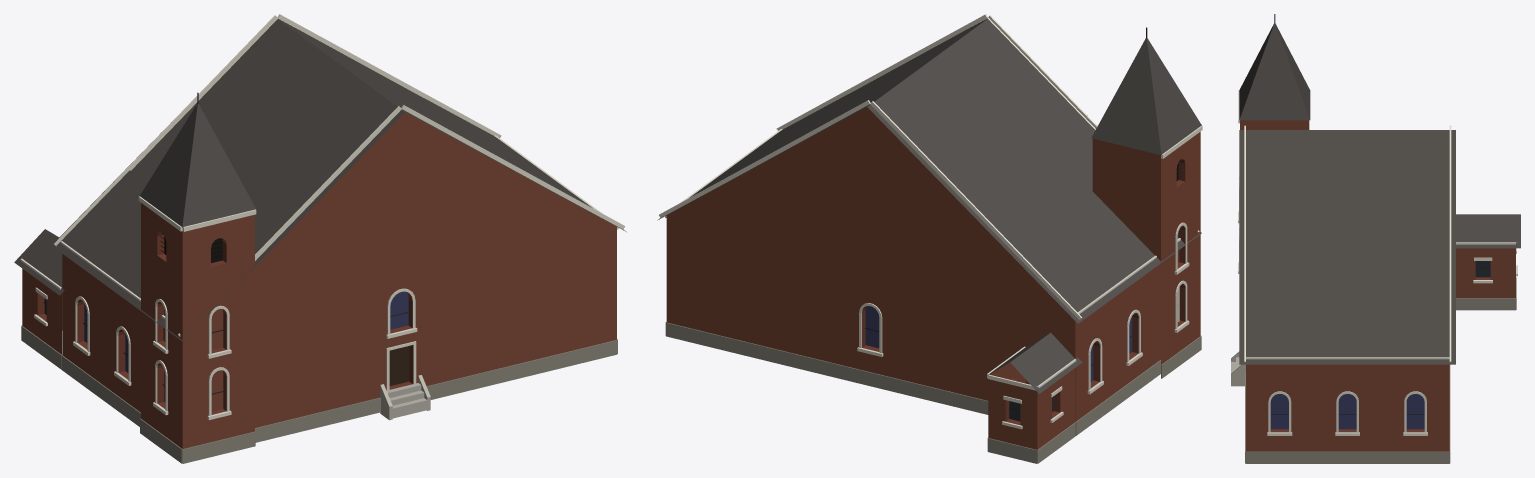
File: ch-luther-memorial-evangelical-1961.glb
3 renders of one model, left to right at view 1: azimuth 30°, elevation 25°; view 2: azimuth 150°, elevation 25°; view 3: azimuth 270°, elevation 25°, orthographic. The views are drawn at different scales.
Visible parts, largest first — view 1: ch_brick, ch_roof, ch_trim, ch_base, ch_roof2, ch_brick2, ch_conc, ch_stain, ch_door; view 2: ch_brick, ch_roof, ch_trim, ch_base, ch_roof2, ch_brick2, ch_stain; view 3: ch_roof, ch_brick, ch_roof2, ch_base, ch_trim, ch_stain, ch_conc.
Part boxes in pixels (x1,y1,x2,y2): ch_brick: [22, 112, 616, 448]; ch_roof: [14, 18, 626, 341]; ch_trim: [20, 14, 625, 420]; ch_base: [21, 325, 617, 463]; ch_roof2: [140, 104, 256, 227]; ch_brick2: [37, 231, 413, 414]; ch_conc: [380, 375, 430, 420]; ch_stain: [84, 291, 408, 402]; ch_door: [389, 346, 409, 385]; ch_brick: [666, 107, 1200, 449]; ch_roof: [657, 18, 1201, 393]; ch_trim: [659, 14, 1202, 429]; ch_base: [665, 322, 1201, 463]; ch_roof2: [1091, 38, 1201, 155]; ch_brick2: [862, 158, 1185, 424]; ch_stain: [865, 232, 1178, 381]; ch_roof: [1239, 130, 1520, 364]; ch_brick: [1240, 120, 1515, 451]; ch_roof2: [1239, 23, 1310, 120]; ch_base: [1245, 277, 1516, 463]; ch_trim: [1238, 90, 1517, 435]; ch_stain: [1270, 394, 1424, 429]; ch_conc: [1231, 351, 1245, 386].
Bounding box in the file's own units: 25.95 × 19.3 × 17.57.
